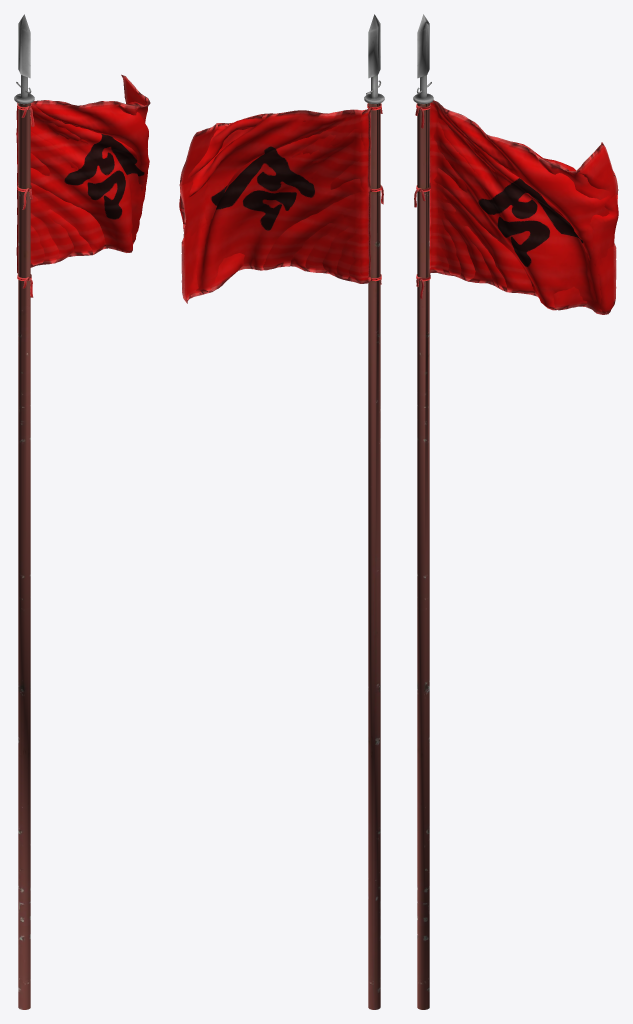
File: flag_yeong.glb
The picture shows the model from 3 angles, left to right: view 1: azimuth 30°, elevation 25°; view 2: azimuth 150°, elevation 25°; view 3: azimuth 330°, elevation 25°; orthographic projection.
Parts seen in each view (by area): view 1: Object_4; view 2: Object_4; view 3: Object_4.
Boxes of the visible parts, box(x1,y1,x2,y2) form: Object_4: box(14, 14, 150, 1009); Object_4: box(179, 14, 384, 1009); Object_4: box(413, 14, 618, 1009).
Size of the model in its own units: 0.8033 by 4.77 by 0.458.
1 material, 1 textured.
